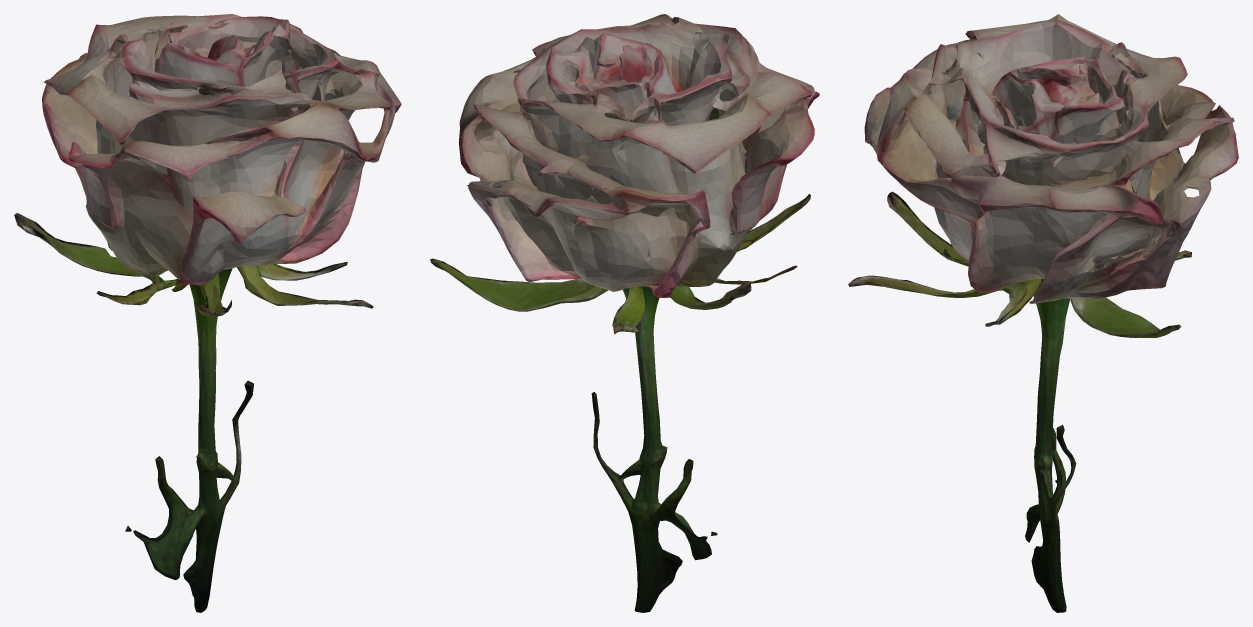
The picture shows the model from 3 angles, left to right: view 1: azimuth 30°, elevation 25°; view 2: azimuth 150°, elevation 25°; view 3: azimuth 270°, elevation 25°; orthographic projection. The views are drawn at different scales.
Visible parts, largest first — view 1: world; view 2: world; view 3: world.
Boxes of the visible parts, x1,y1,x2,y2 form: world: (14, 14, 401, 612); world: (430, 14, 819, 612); world: (848, 14, 1238, 612).
Size of the model in its own units: 0.5546 by 0.9434 by 0.5975.
1 material, 1 textured.
